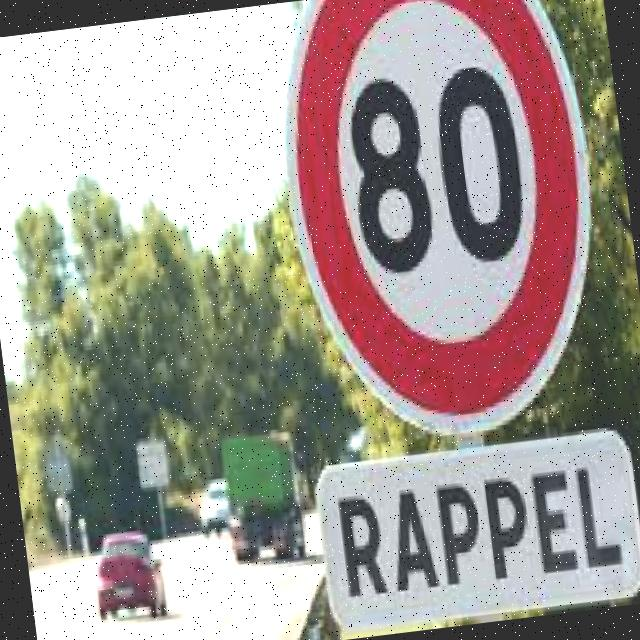Ograniczenie predkosci do 80: (303, 0, 573, 378)
